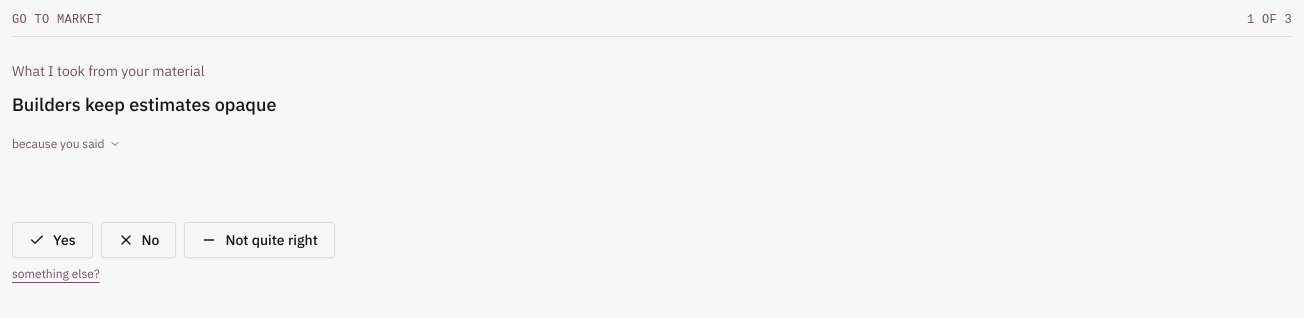
ReviewPass › demotes the remark: a link, not an open field
Click the button "something else?" at (56, 274), box top-left (12, 266), bottom-right (100, 282)
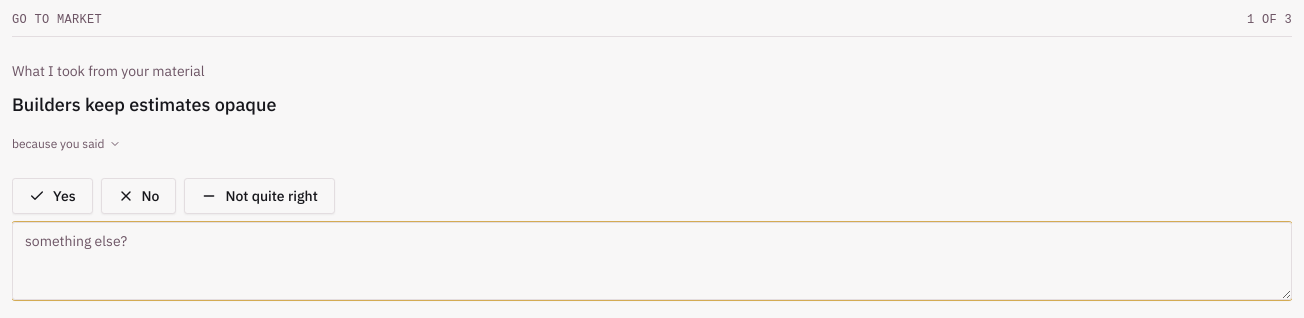
Check: the text box is shown, box top-left (12, 222), bottom-right (1292, 300)
